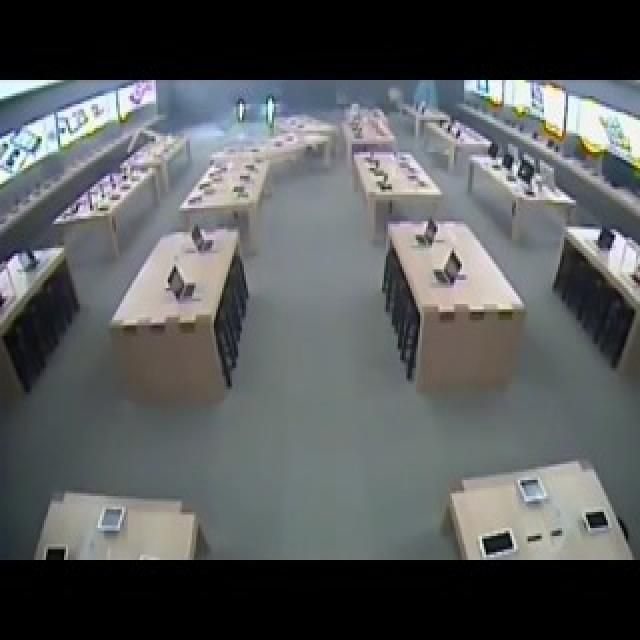burglary: (225, 86, 287, 133)
